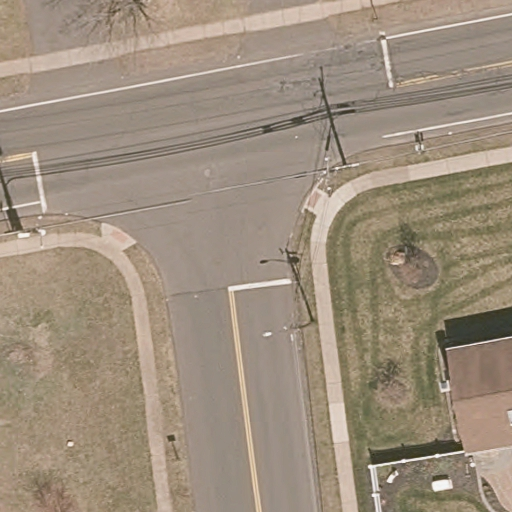DT: (311, 156, 359, 190), (262, 317, 317, 341), (16, 223, 48, 249)
